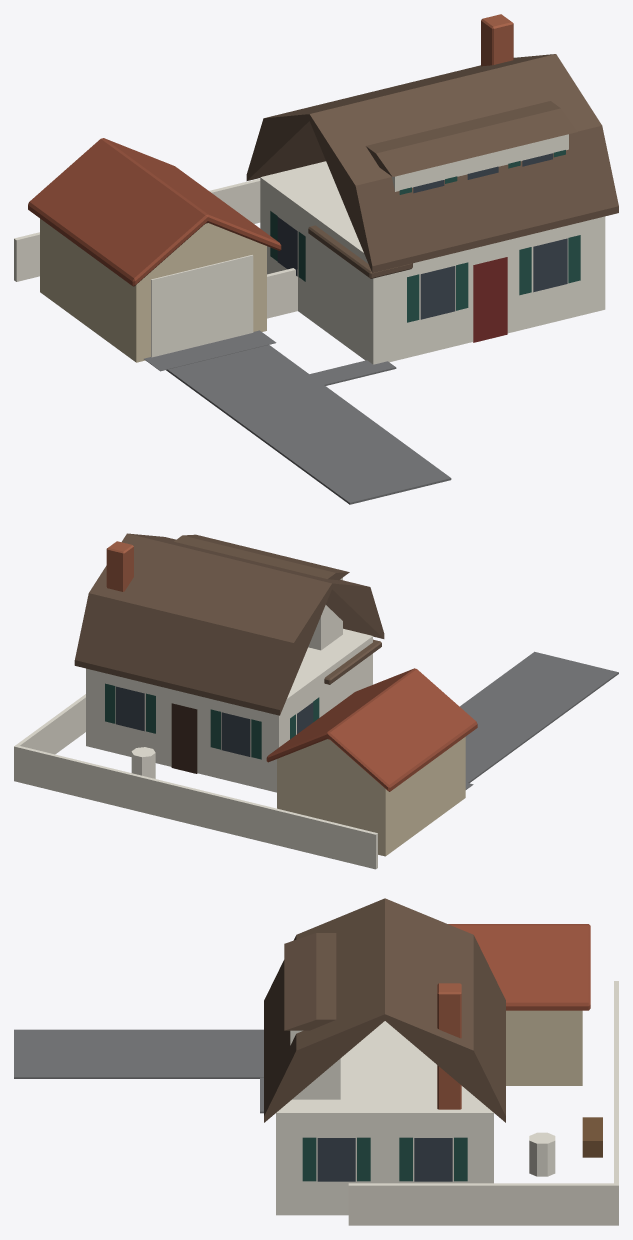
File: house_c.glb
3 views of the same model, one above another, from view 1: azimuth 30°, elevation 25°; view 2: azimuth 150°, elevation 25°; view 3: azimuth 270°, elevation 25° (orthographic). The views are drawn at different scales.
Visible parts, largest first — view 1: house_c; view 2: house_c; view 3: house_c.
Part boxes in pixels (x1,y1,x2,y2): house_c: [14, 14, 618, 504]; house_c: [14, 533, 618, 869]; house_c: [14, 898, 618, 1225].
Size of the model in its own units: 12.05 by 6 by 15.
